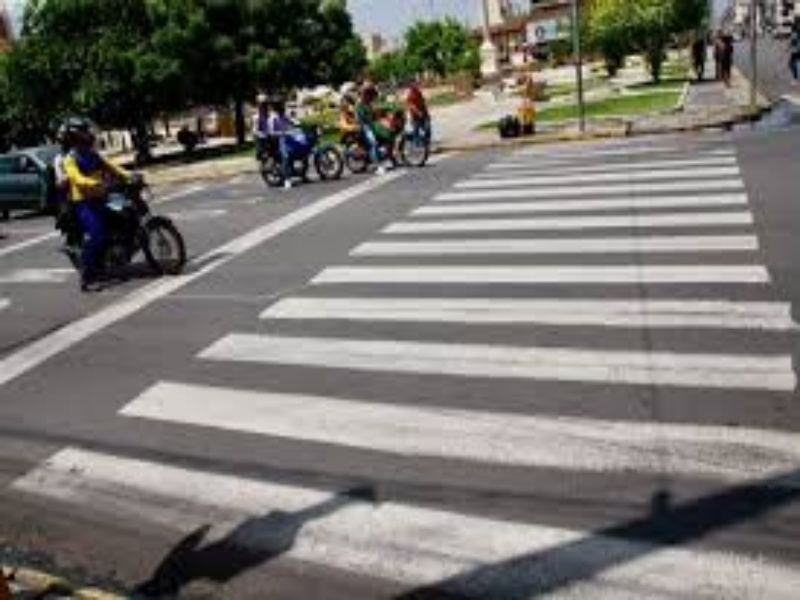zebra cross: (17, 145, 800, 600)
